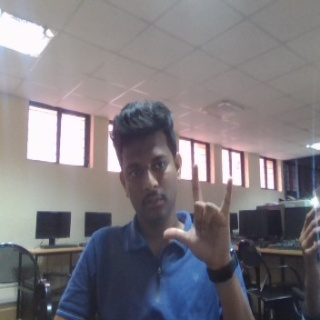I Love You: (161, 162, 233, 269)
